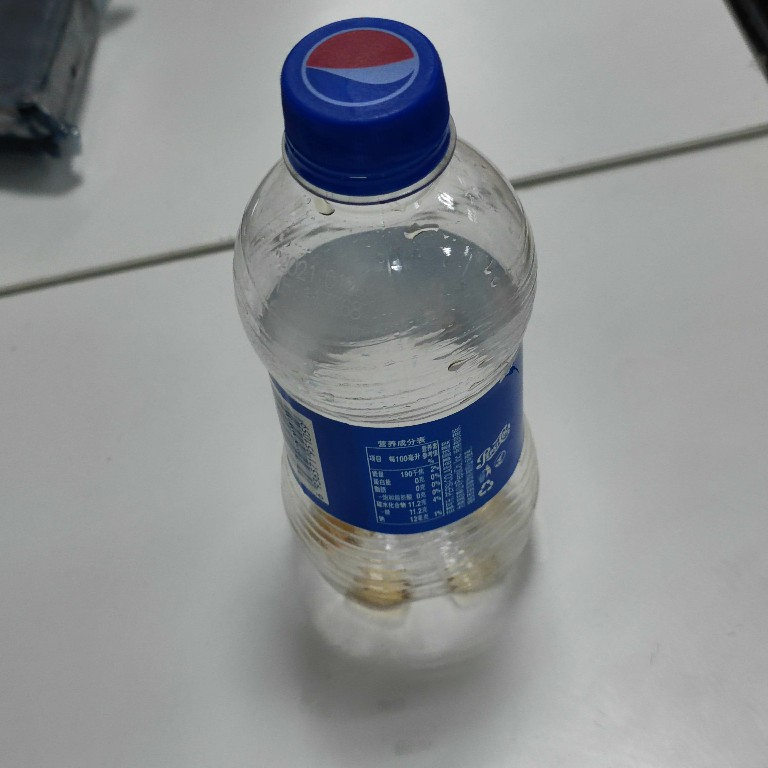bottle: (224, 13, 546, 618)
